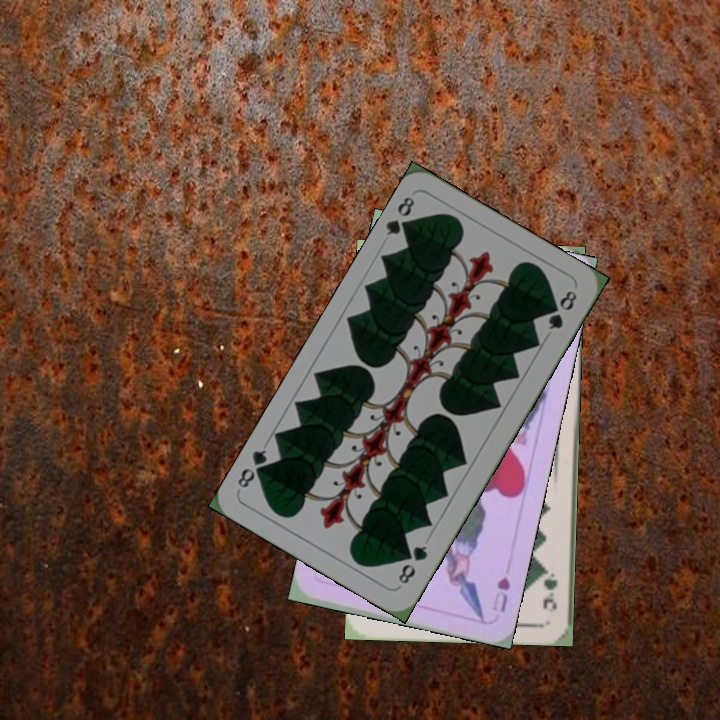G8: (381, 192, 417, 239), (394, 541, 430, 587)
G9: (538, 563, 560, 612)
HU: (488, 573, 513, 615)
